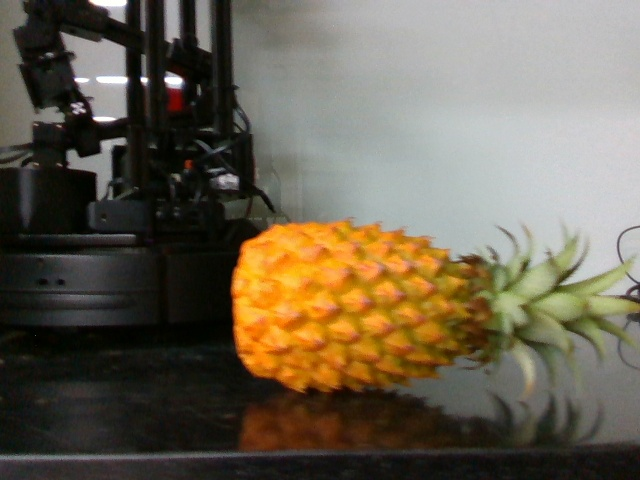pineapple: (232, 219, 639, 398)
